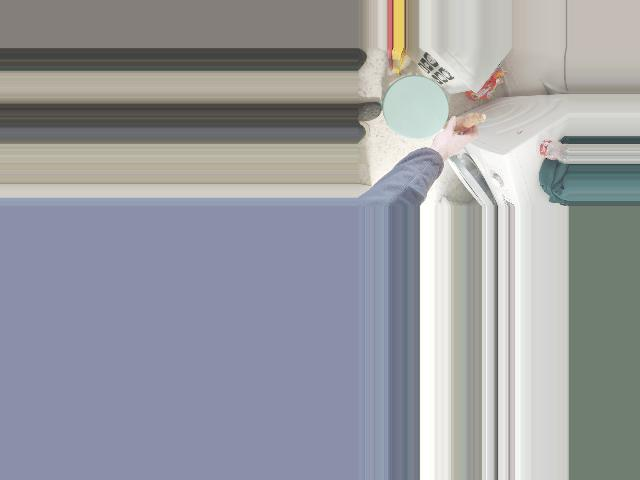sweet_potato: (433, 113, 485, 142)
